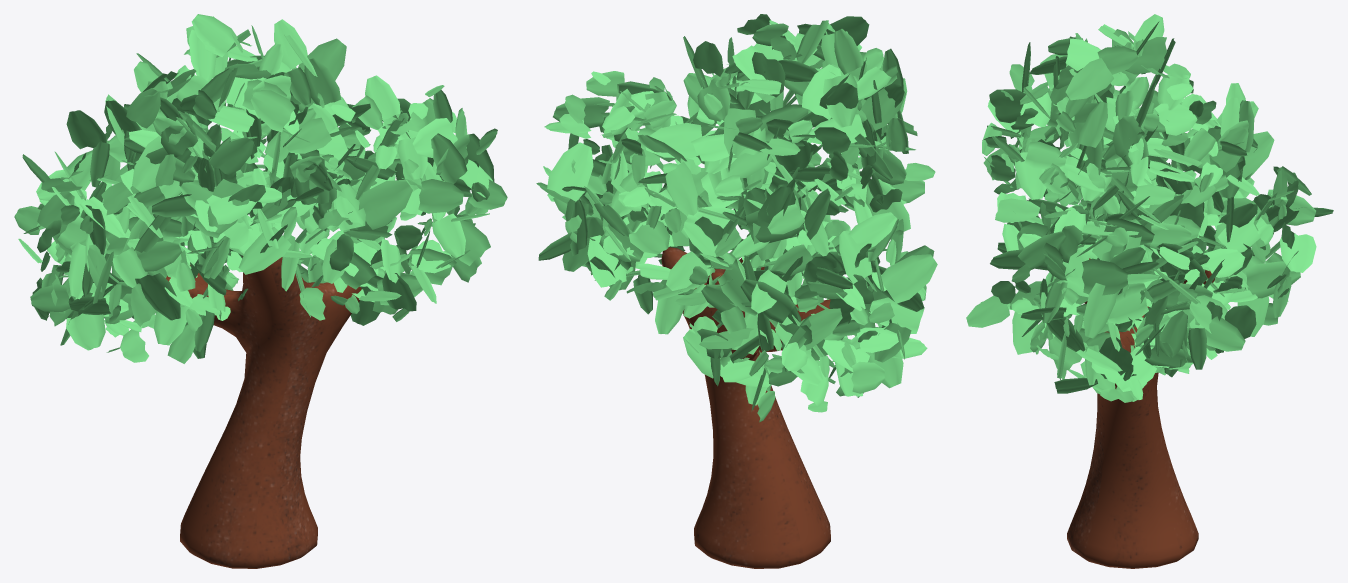
Rendered from beach_tree.glb.
The picture shows the model from 3 angles, left to right: view 1: azimuth 30°, elevation 25°; view 2: azimuth 150°, elevation 25°; view 3: azimuth 270°, elevation 25°; orthographic projection. The views are drawn at different scales.
Parts seen in each view (by area): view 1: Leaves.008, Base.004; view 2: Leaves.008, Base.004; view 3: Leaves.008, Base.004.
Part boxes in pixels (x1,y1,x2,y2): Leaves.008: (14, 14, 507, 363); Base.004: (166, 251, 361, 568); Leaves.008: (536, 14, 937, 422); Base.004: (661, 247, 830, 568); Leaves.008: (966, 14, 1333, 402); Base.004: (1067, 258, 1214, 568).
Bounding box in the file's own units: 10.74 × 13.06 × 8.54.
2 materials, 1 textured.
